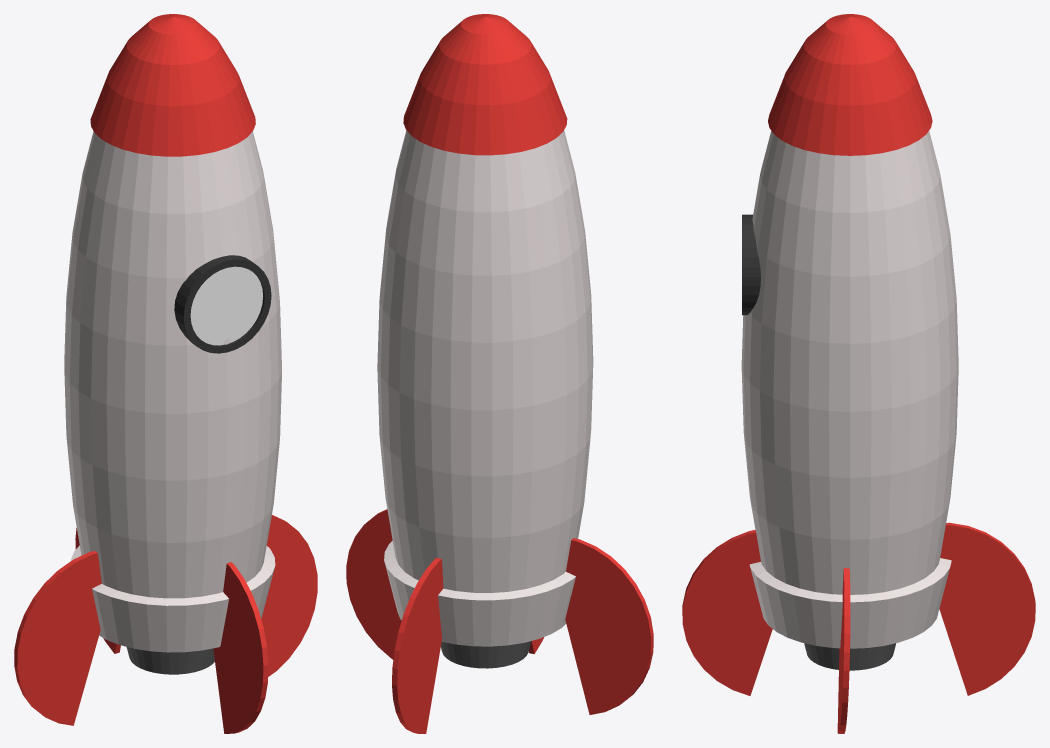
File: foguete.gltf
3 renders of one model, left to right at view 1: azimuth 30°, elevation 25°; view 2: azimuth 150°, elevation 25°; view 3: azimuth 270°, elevation 25°, orthographic.
Visible parts, largest first — view 1: Sphere, Cylinder.003, Cylinder, Sphere.001; view 2: Sphere, Cylinder.003, Sphere.001; view 3: Sphere, Cylinder.003, Sphere.001, Cylinder.
Part boxes in pixels (x1,y1,x2,y2): Sphere: [64, 14, 281, 652]; Cylinder.003: [14, 515, 317, 733]; Cylinder: [174, 255, 271, 353]; Sphere.001: [126, 647, 214, 674]; Sphere: [377, 14, 593, 646]; Cylinder.003: [346, 509, 653, 733]; Sphere.001: [441, 641, 531, 668]; Sphere: [741, 14, 958, 648]; Cylinder.003: [682, 522, 1035, 733]; Sphere.001: [804, 643, 895, 670]; Cylinder: [742, 214, 760, 315].
Size of the model in its own units: 10.67 by 22.83 by 10.8.
